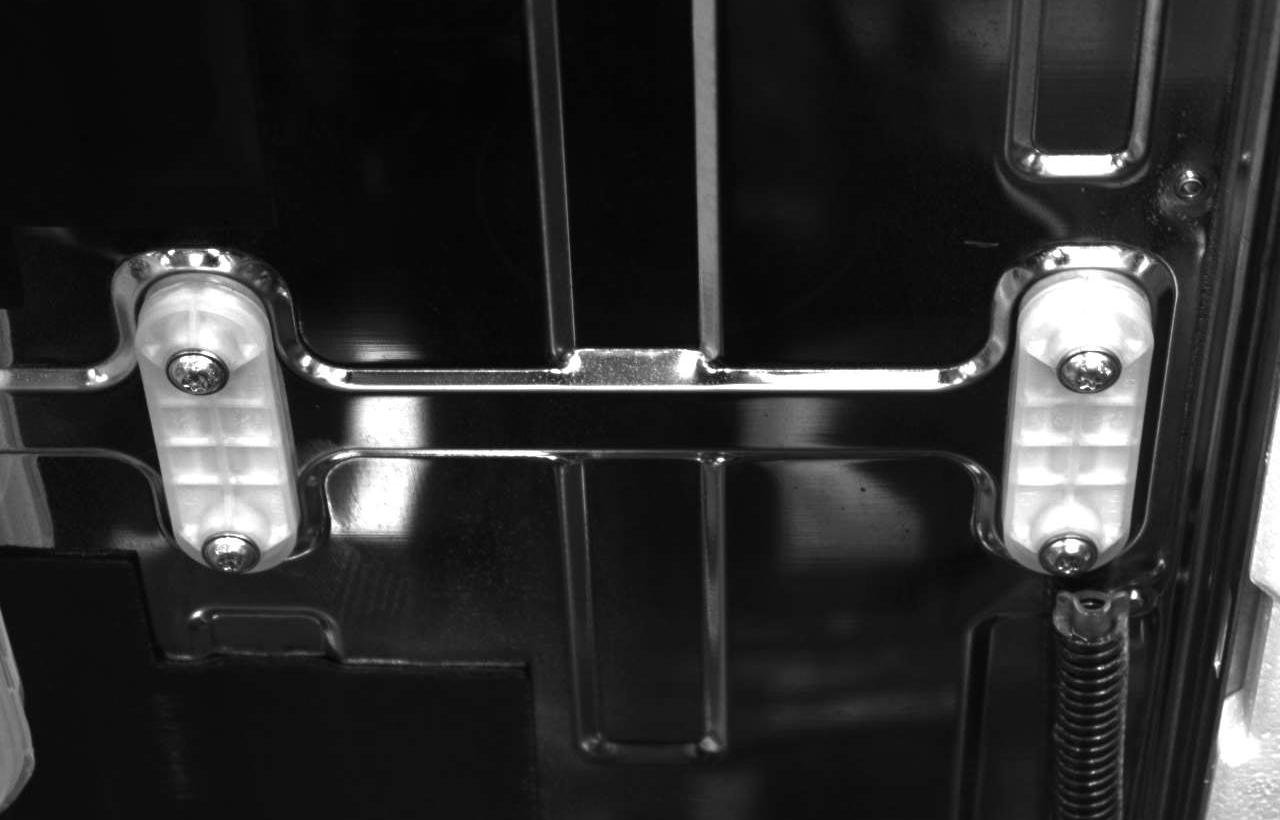vida-ok: (163, 338, 234, 405), (1054, 338, 1121, 405), (197, 522, 263, 581), (1033, 522, 1099, 581)
